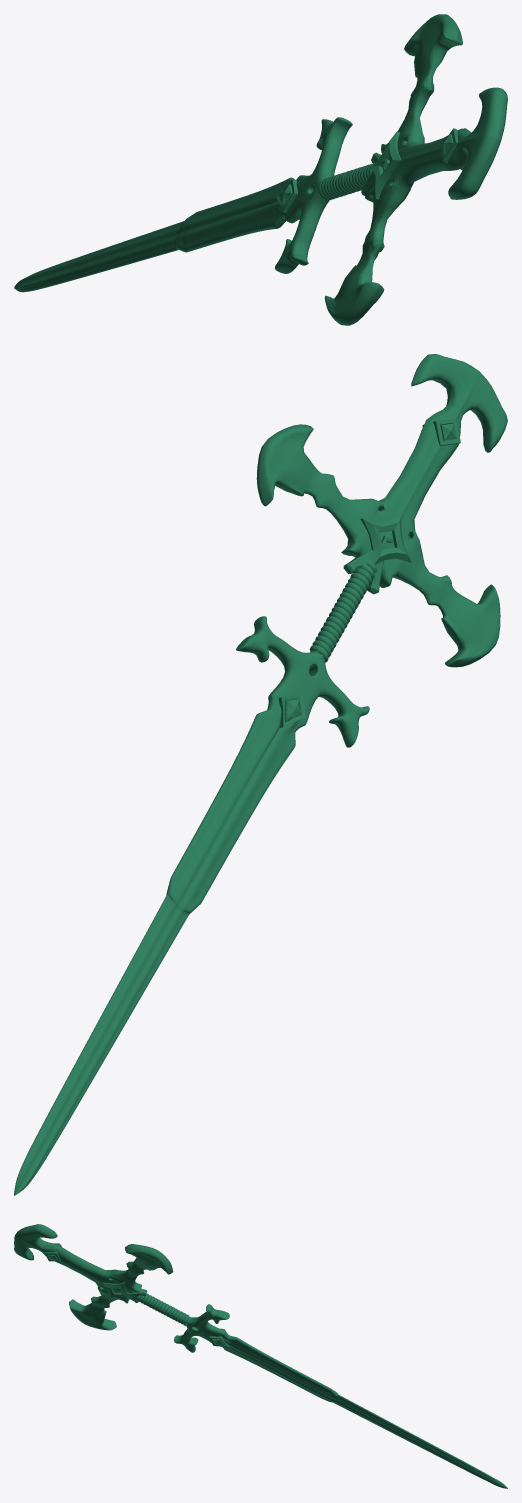
File: sword to sketchfab.fbx
3 views of the same model, one above another, from view 1: azimuth 30°, elevation 25°; view 2: azimuth 150°, elevation 25°; view 3: azimuth 270°, elevation 25° (orthographic). The views are drawn at different scales.
Visible parts, largest first — view 1: Box007; view 2: Box007; view 3: Box007.
Boxes of the visible parts, left/top/right/bottom form: Box007: left=14, top=14, right=507, bottom=325; Box007: left=14, top=354, right=507, bottom=1195; Box007: left=14, top=1224, right=507, bottom=1488.
Bounding box in the file's own units: 151 × 433 × 717.
